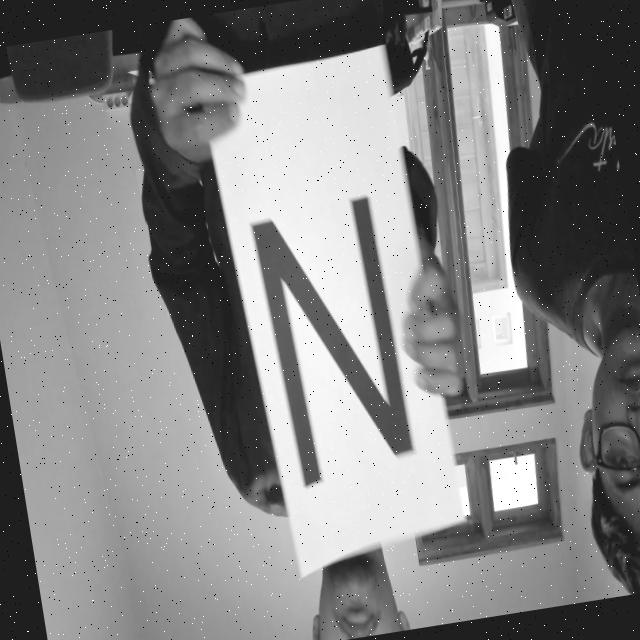n: (222, 138, 444, 511)
